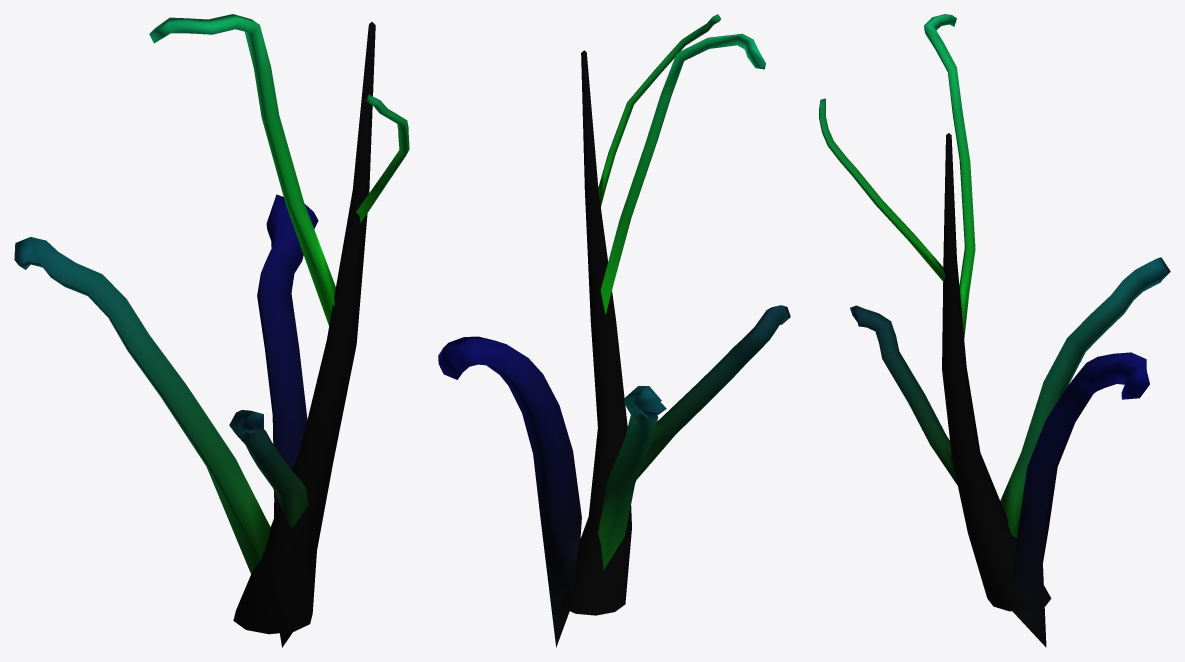
The model's file is DryBranches2.fbx.
3 renders of one model, left to right at view 1: azimuth 30°, elevation 25°; view 2: azimuth 150°, elevation 25°; view 3: azimuth 270°, elevation 25°, orthographic. The views are drawn at different scales.
Parts seen in each view (by area): view 1: Tree_0; view 2: Tree_0; view 3: Tree_0.
Part boxes in pixels (bbox=[...]): Tree_0: bbox=[14, 14, 409, 647]; Tree_0: bbox=[438, 14, 790, 647]; Tree_0: bbox=[819, 14, 1170, 647].
Size of the model in its own units: 28.57 by 68.29 by 38.32.
